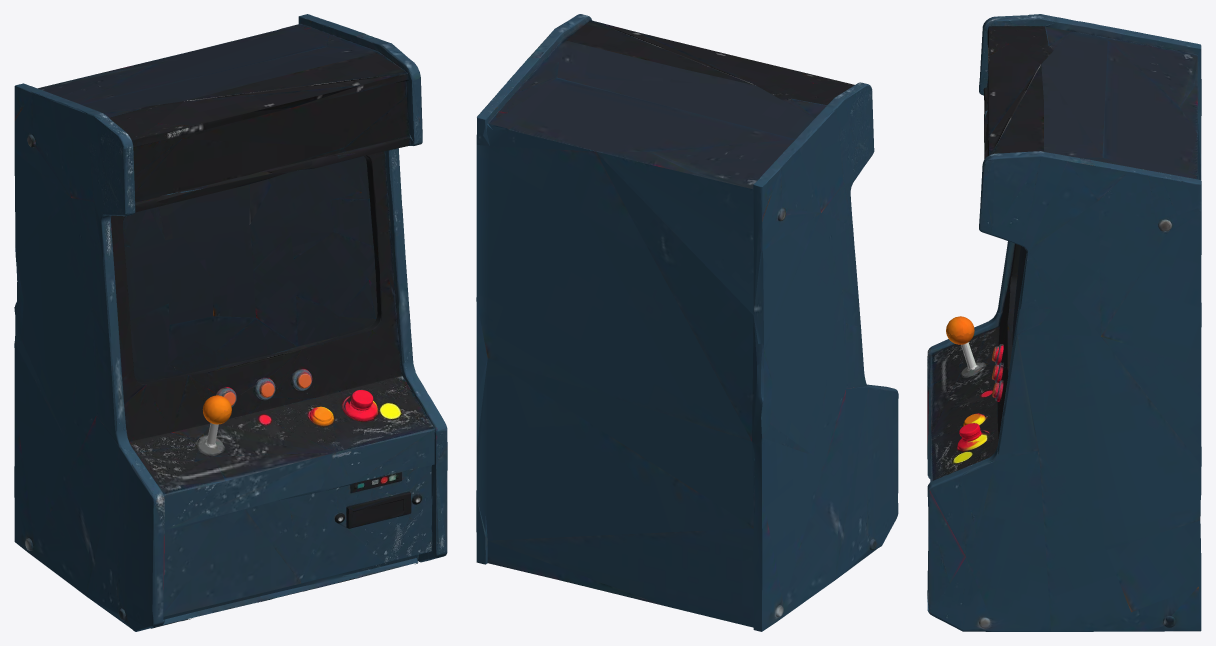
Rendered from cabinet.glb.
3 renders of one model, left to right at view 1: azimuth 30°, elevation 25°; view 2: azimuth 150°, elevation 25°; view 3: azimuth 270°, elevation 25°, orthographic. The views are drawn at different scales.
Size of the model in its own units: 1.23 by 1.9 by 0.9908.
Materials: 1 (1 with a texture image).
